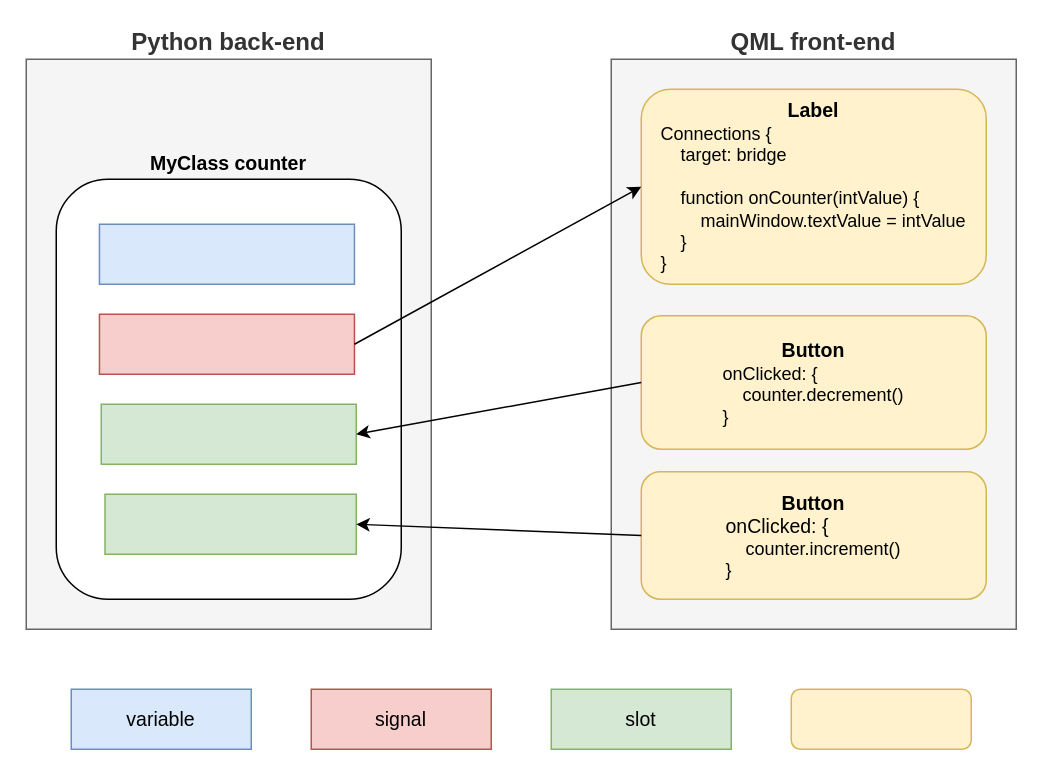
Image size: 1043x776. Some labels were removed from this diagram. Each missing label, with the centre of its shape:
"decrement" belongs at point 230,523.
"increment" belongs at point 228,433.
"myValue" belongs at point 226,253.
"QML element" belongs at point 880,718.
"valueChanged(int value)" belongs at point 226,343.
